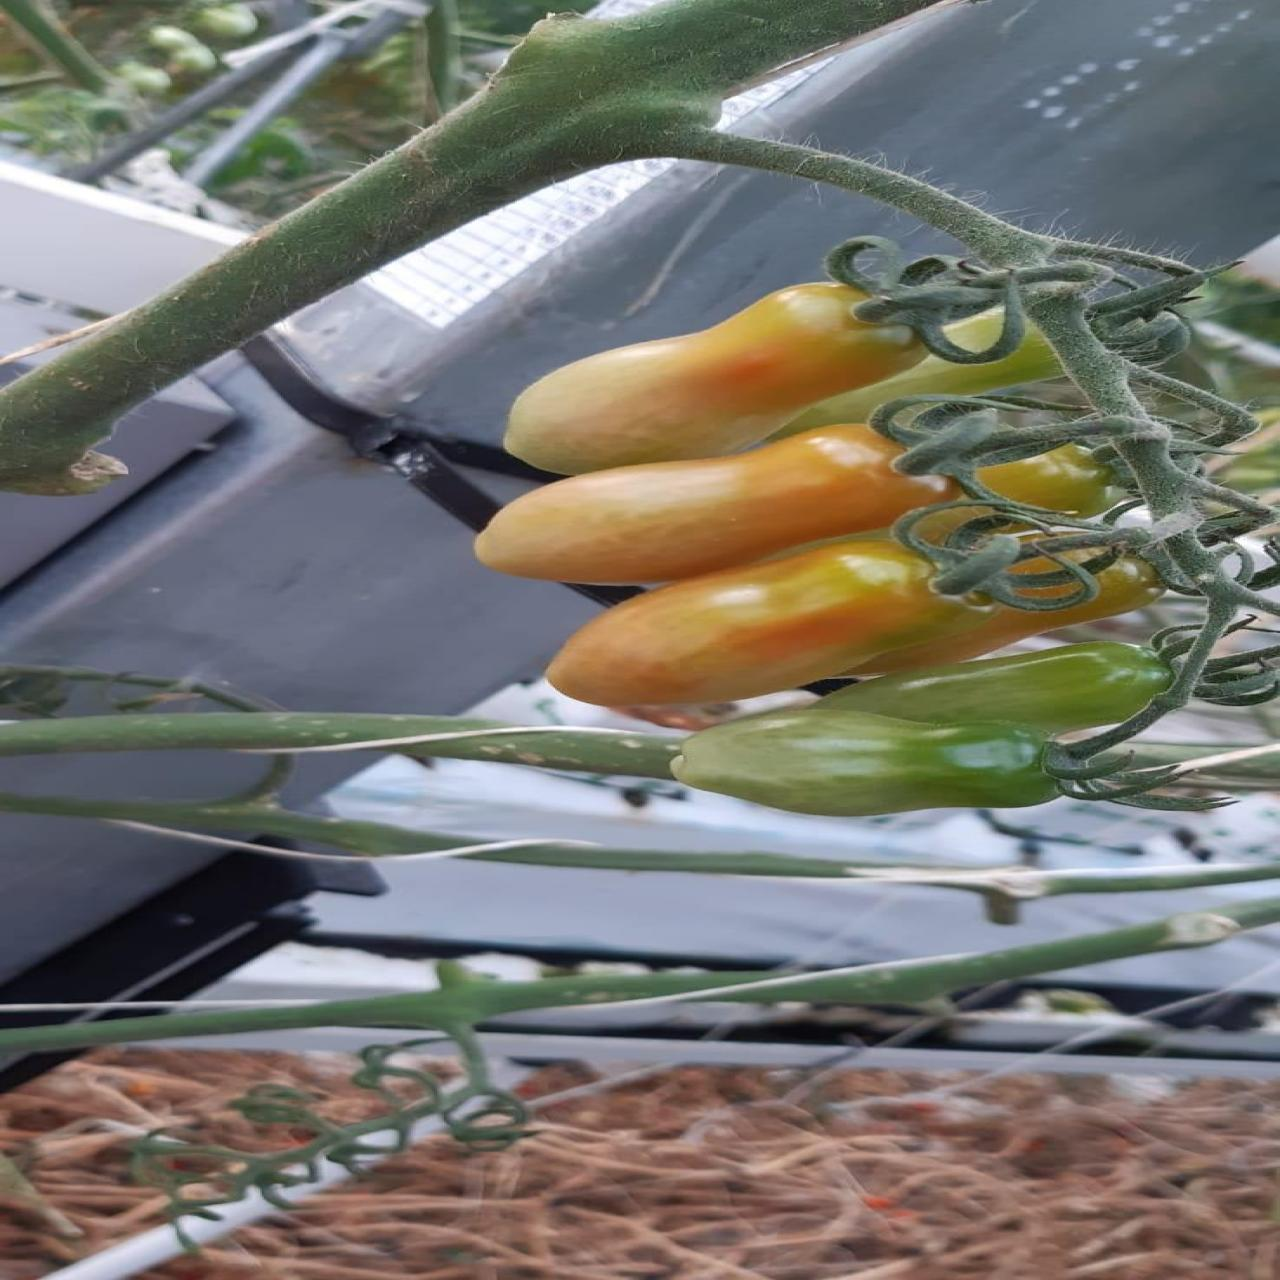T_F_R: (501, 282, 925, 474), (471, 425, 958, 583), (544, 542, 998, 707), (669, 709, 1058, 818), (808, 642, 1172, 735)
T_S_R: (1, 1, 1061, 495), (1, 714, 685, 777), (1030, 299, 1214, 515)
